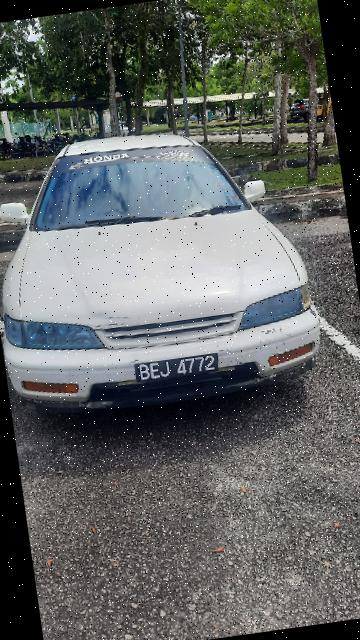License_Plate: (132, 343, 221, 394)
car: (1, 108, 332, 438)
